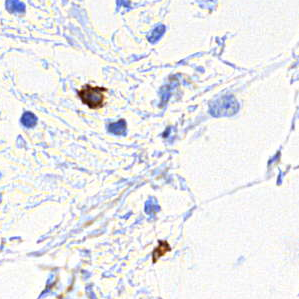Lymphocyte: (74, 81, 109, 109)
